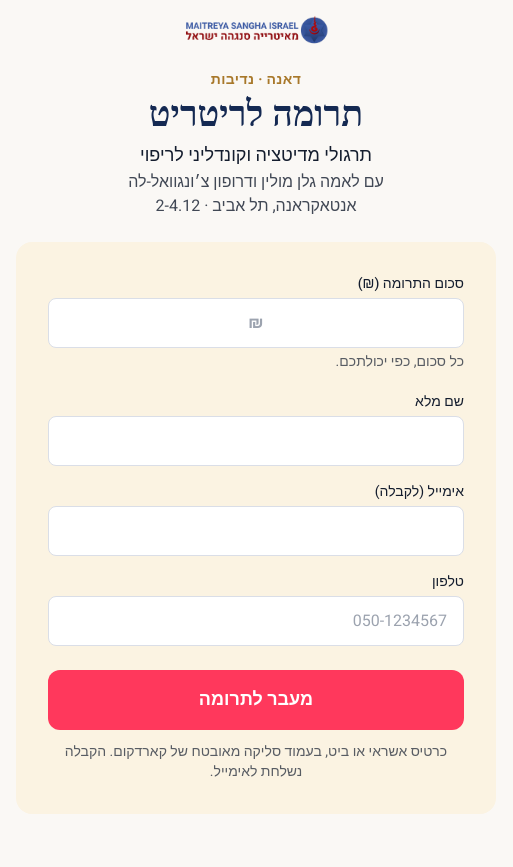
TablePay › donation page: refuses an empty amount without calling the flow
Type "Test Person" into the field labelled "שם מלא".
click(256, 441); type("Test Person")  # box [48,416,464,466]
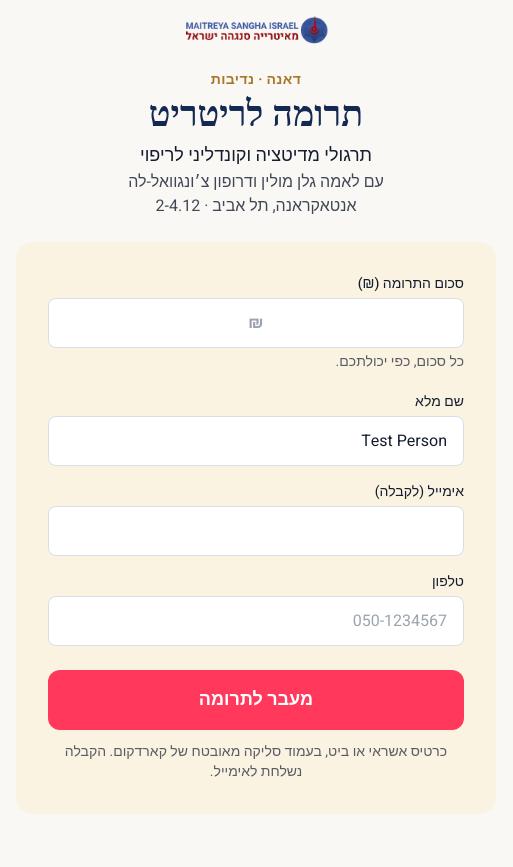
Type "t@example.com" into the field labelled "אימייל (לקבלה)".
click(256, 531); type("t@example.com")  # box [48,506,464,556]
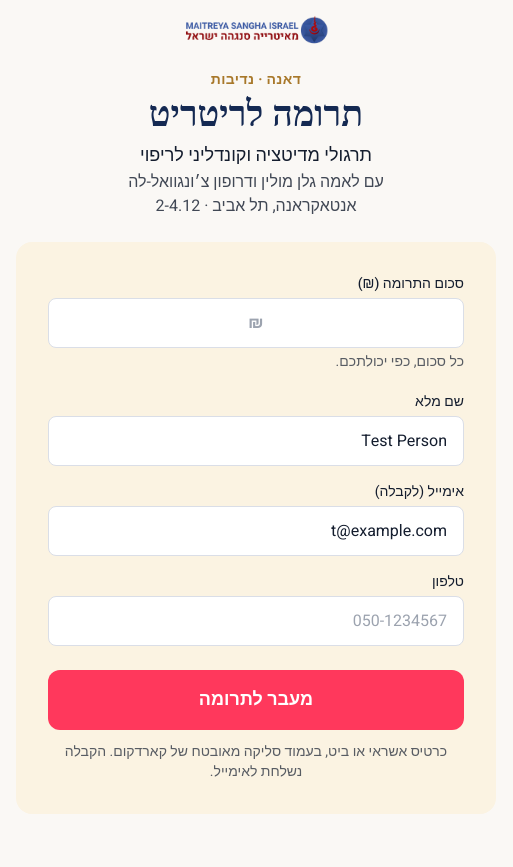
Type "0501234567" into the field labelled "טלפון".
click(256, 621); type("0501234567")  # box [48,596,464,646]
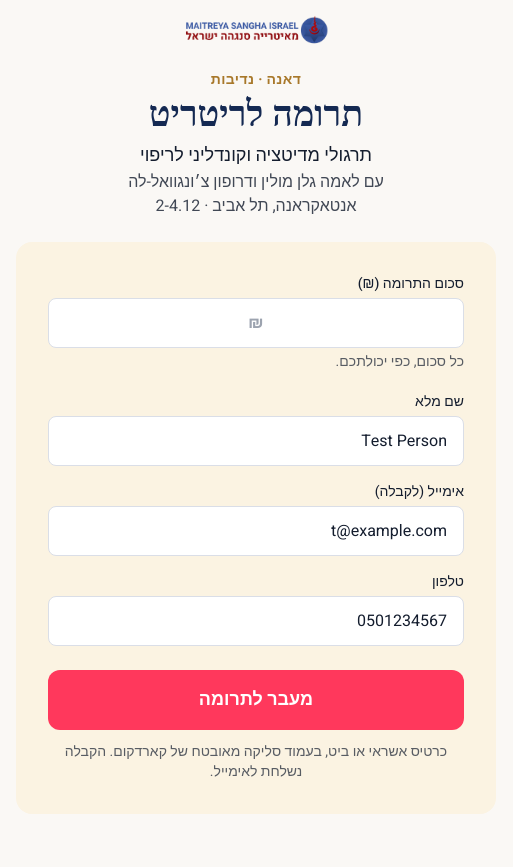
Submit the form
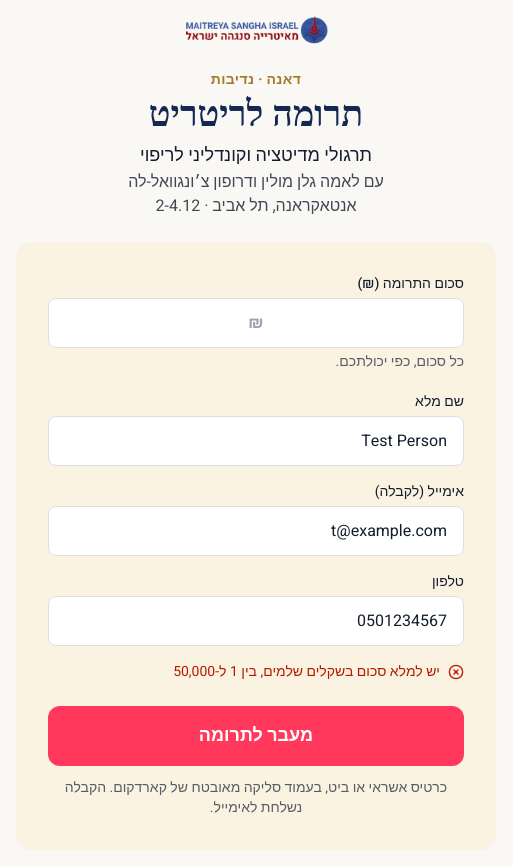
Check: the text "יש למלא סכום בשקלים שלמים, בין 1 ל-50,000" is shown, box [173,661,464,682]
